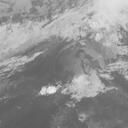cyclone: (36, 48, 103, 103)
